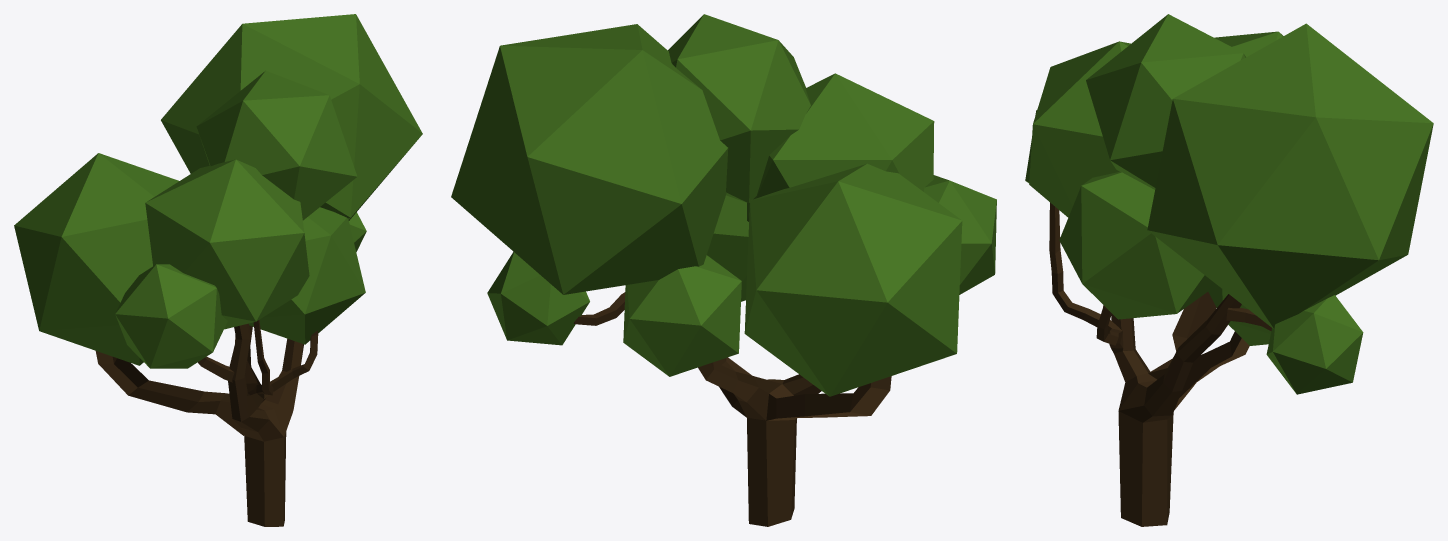
Rendered from tree 2.fbx.
The picture shows the model from 3 angles, left to right: view 1: azimuth 30°, elevation 25°; view 2: azimuth 150°, elevation 25°; view 3: azimuth 270°, elevation 25°; orthographic projection. The views are drawn at different scales.
Visible parts, largest first — view 1: Default; view 2: Default; view 3: Default.
Boxes of the visible parts, <box> form: Default: <box>14,14,422,526</box>; Default: <box>451,14,996,526</box>; Default: <box>1025,14,1433,526</box>.
Size of the model in its own units: 5.1 by 5.65 by 4.02.
